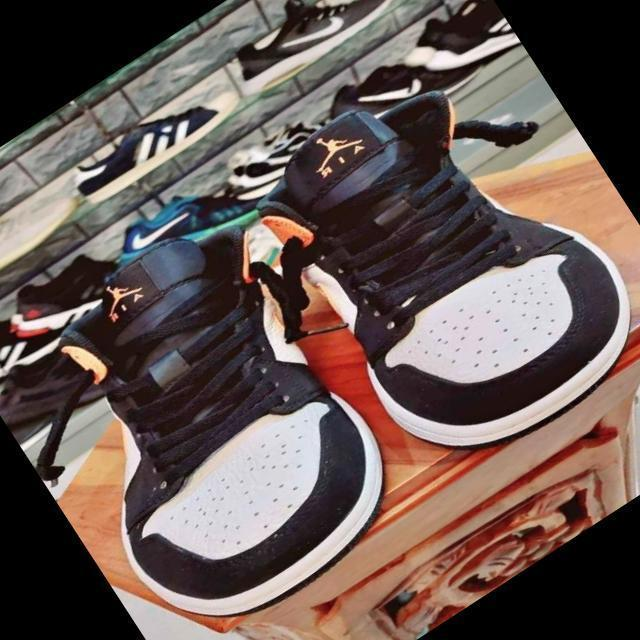nike fake jordan 1: (0, 185, 436, 640), (226, 34, 640, 501)
